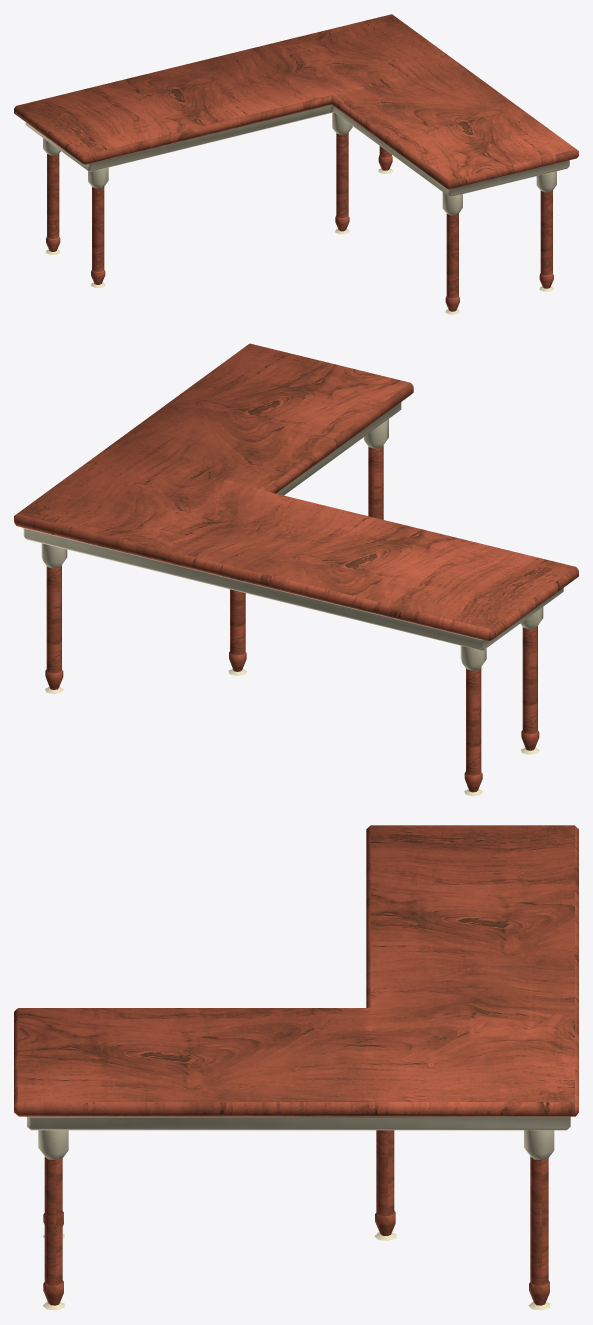
File: LTable.fbx
3 renders of one model, top to bottom at view 1: azimuth 30°, elevation 25°; view 2: azimuth 150°, elevation 25°; view 3: azimuth 270°, elevation 25°, orthographic. The views are drawn at different scales.
Visible parts, largest first — view 1: LTable; view 2: LTable; view 3: LTable.
Boxes of the visible parts, x1=… form: LTable: x1=14, y1=14, x2=578, y2=314; LTable: x1=14, y1=343, x2=578, y2=796; LTable: x1=14, y1=825, x2=578, y2=1310.
Bounding box in the file's own units: 179 × 64.8 × 153.
